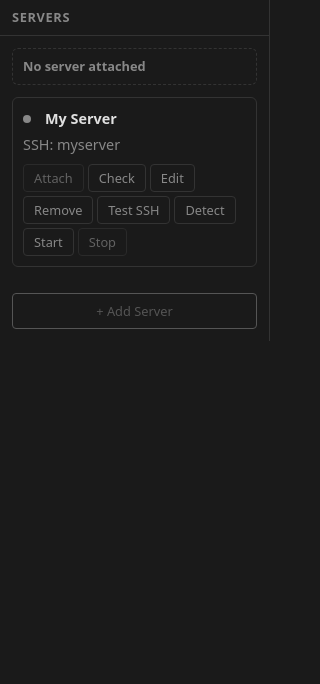
Test: edits and saves a target
The width and height of the screenshot is (320, 684).
Expected: the element with test id "server-card-ssh-1" is shown, [12, 97, 257, 267]
Click the button with test id "edit-ssh-1".
click(172, 178)  # box [150, 164, 195, 192]
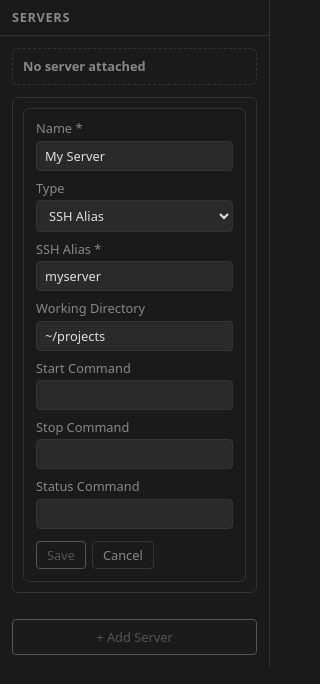
Result: the form with test id "edit-form-ssh-1" is shown at [23, 108, 246, 582]
Replace the text in the field with test id "edit-name-ssh-1" with "Renamed" at (134, 156), box [36, 141, 233, 171]
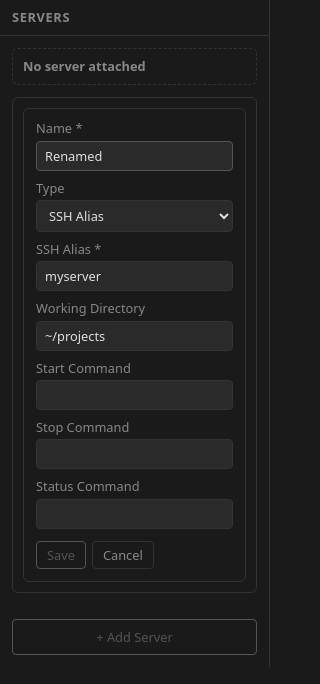
Click the button with test id "edit-save-ssh-1".
click(61, 555)  # box [36, 541, 86, 569]
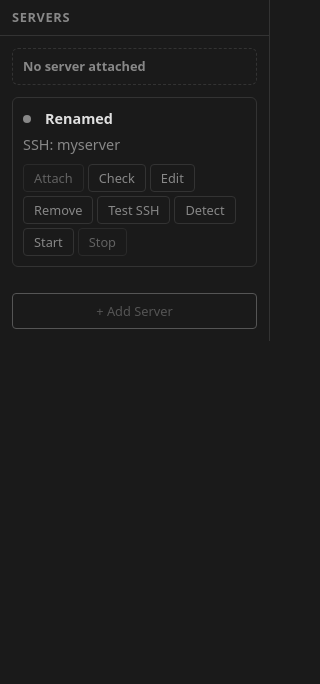
Result: the heading "Renamed" is shown at [45, 109, 113, 128]
